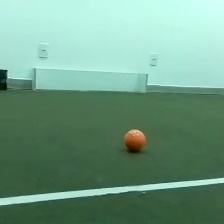ball: (121, 127, 148, 153)
goal: (30, 66, 149, 94)
robot: (1, 67, 10, 92)
